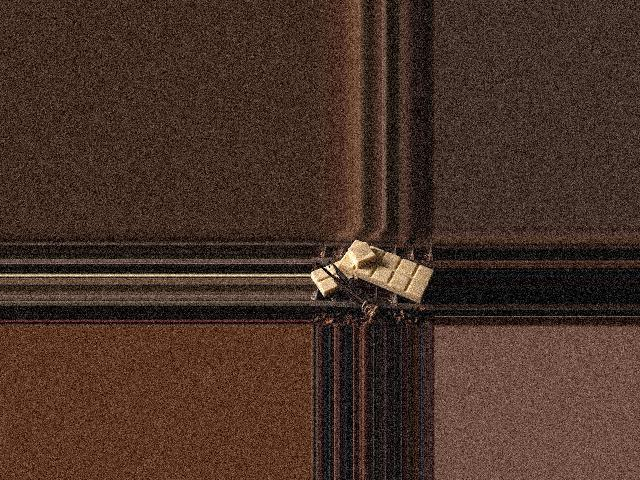chocolate: (335, 240, 432, 301)
